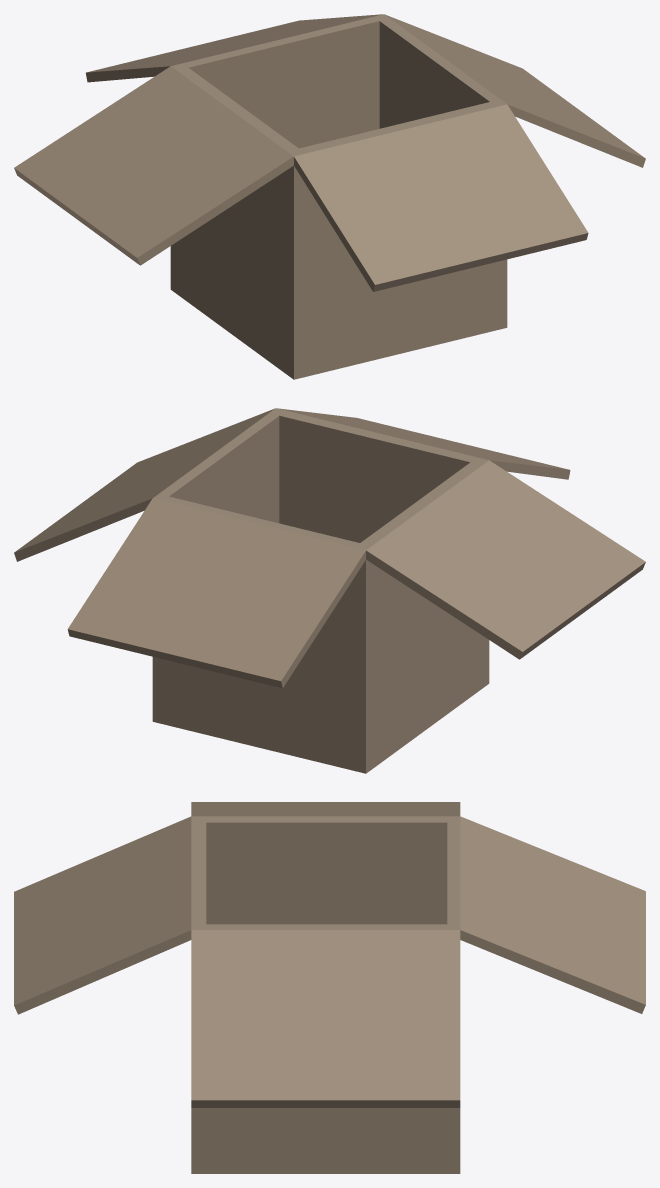
The model's file is Cardboard Box 1.fbx.
3 views of the same model, one above another, from view 1: azimuth 30°, elevation 25°; view 2: azimuth 150°, elevation 25°; view 3: azimuth 270°, elevation 25° (orthographic). The views are drawn at different scales.
Parts seen in each view (by area): view 1: Cardboard_box; view 2: Cardboard_box; view 3: Cardboard_box.
Boxes of the visible parts, bbox=[...] form: Cardboard_box: bbox=[14, 14, 645, 379]; Cardboard_box: bbox=[14, 408, 645, 773]; Cardboard_box: bbox=[14, 802, 645, 1173].
Size of the model in its own units: 96.33 by 40.42 by 94.92.
